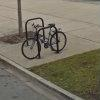Bicycle: (20, 14, 67, 62)
